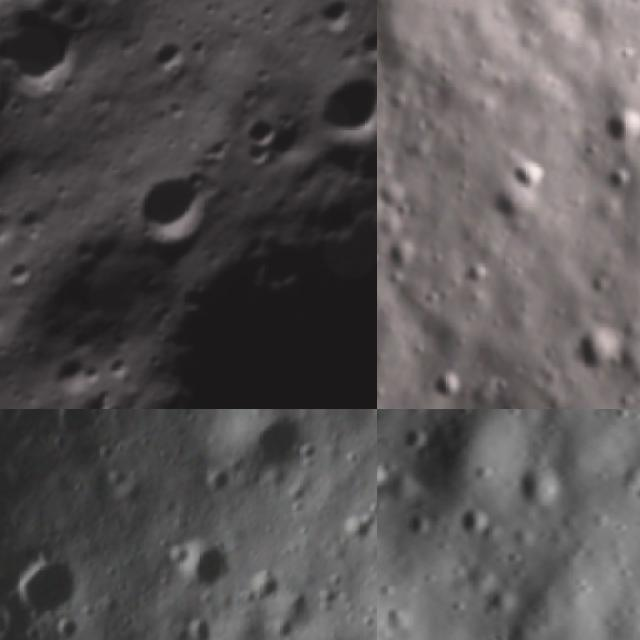crater: (116, 142, 244, 274), (0, 89, 53, 352), (0, 0, 113, 108), (292, 48, 377, 164), (224, 409, 324, 480), (12, 548, 84, 612), (42, 342, 110, 408), (556, 323, 630, 383), (508, 453, 569, 515), (577, 98, 640, 156), (177, 535, 234, 592), (0, 241, 56, 299), (144, 30, 199, 85), (234, 104, 289, 159), (302, 0, 369, 45), (0, 33, 29, 135), (418, 368, 473, 409), (511, 153, 554, 204), (478, 188, 522, 234), (202, 455, 242, 503), (457, 504, 497, 542), (336, 511, 377, 548), (575, 271, 617, 306), (189, 611, 217, 640), (0, 608, 9, 639)
